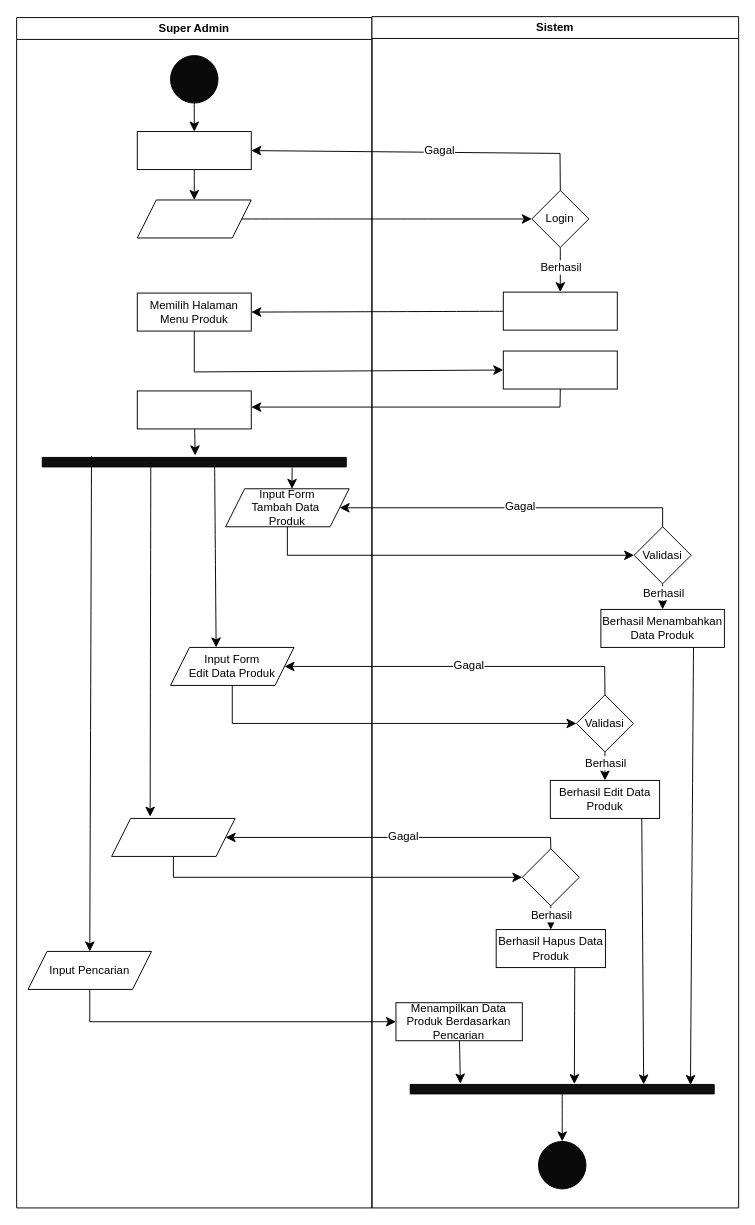
This 755x1225 diagram has some shape labels left out. The shapes that lost their labels are listed below. From the top down, each one's centre as x and y in pixels, then its label:
At point (193, 150): "Melakukan Login".
At point (193, 218): "Input Email dan Password".
At point (559, 310): "Menampilkan Halaman Dashboard".
At point (559, 369): "Menampilkan Halaman Menu Produk".
At point (193, 409): "Mengelola Data Produk".
At point (173, 836): "Verifikasi Hapus Produk".
At point (550, 877): "Verifikasi".
